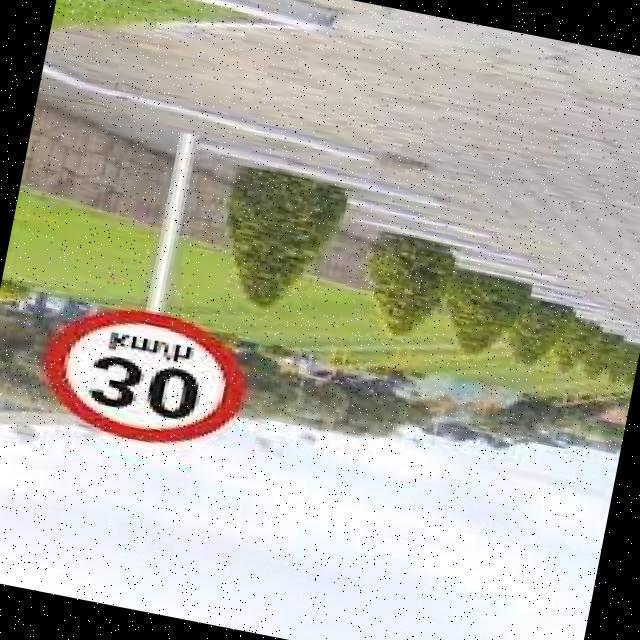speed_limit_30: (22, 283, 265, 474)
